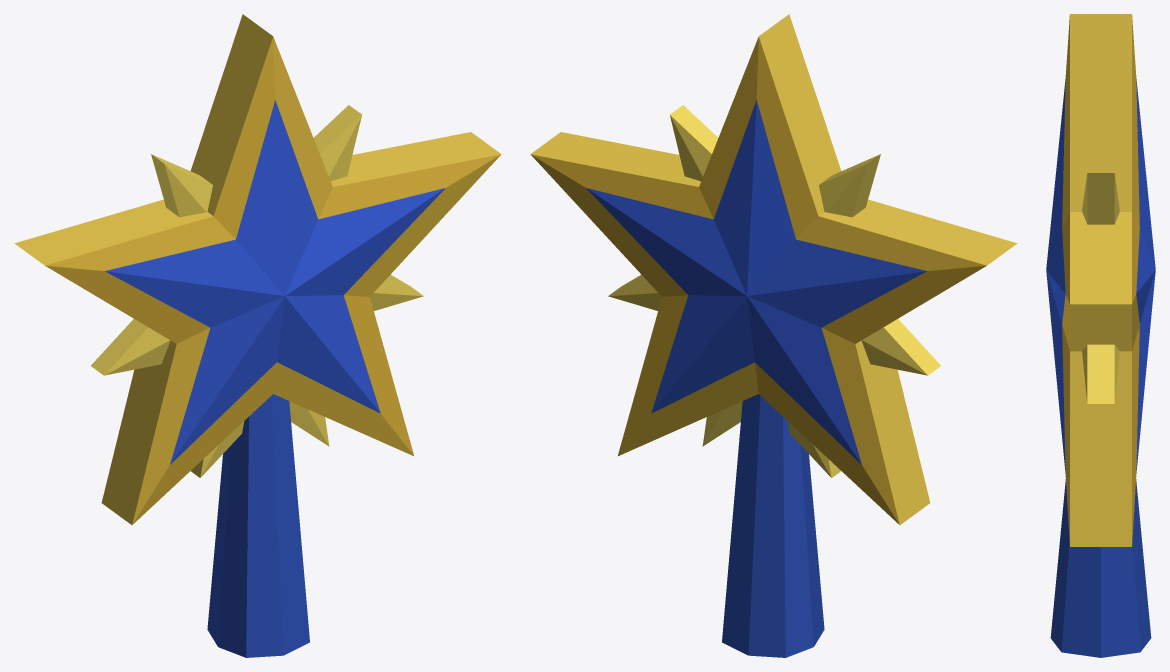
The model's file is Stars4.fbx.
3 views of the same model, side by side, from view 1: azimuth 30°, elevation 25°; view 2: azimuth 150°, elevation 25°; view 3: azimuth 270°, elevation 25° (orthographic).
Visible parts, largest first — view 1: Star4; view 2: Star4; view 3: Star4.
Boxes of the visible parts, bbox=[...] form: Star4: bbox=[14, 14, 501, 657]; Star4: bbox=[530, 14, 1017, 657]; Star4: bbox=[1046, 14, 1155, 657].
Bounding box in the file's own units: 83.77 × 109 × 17.09.
